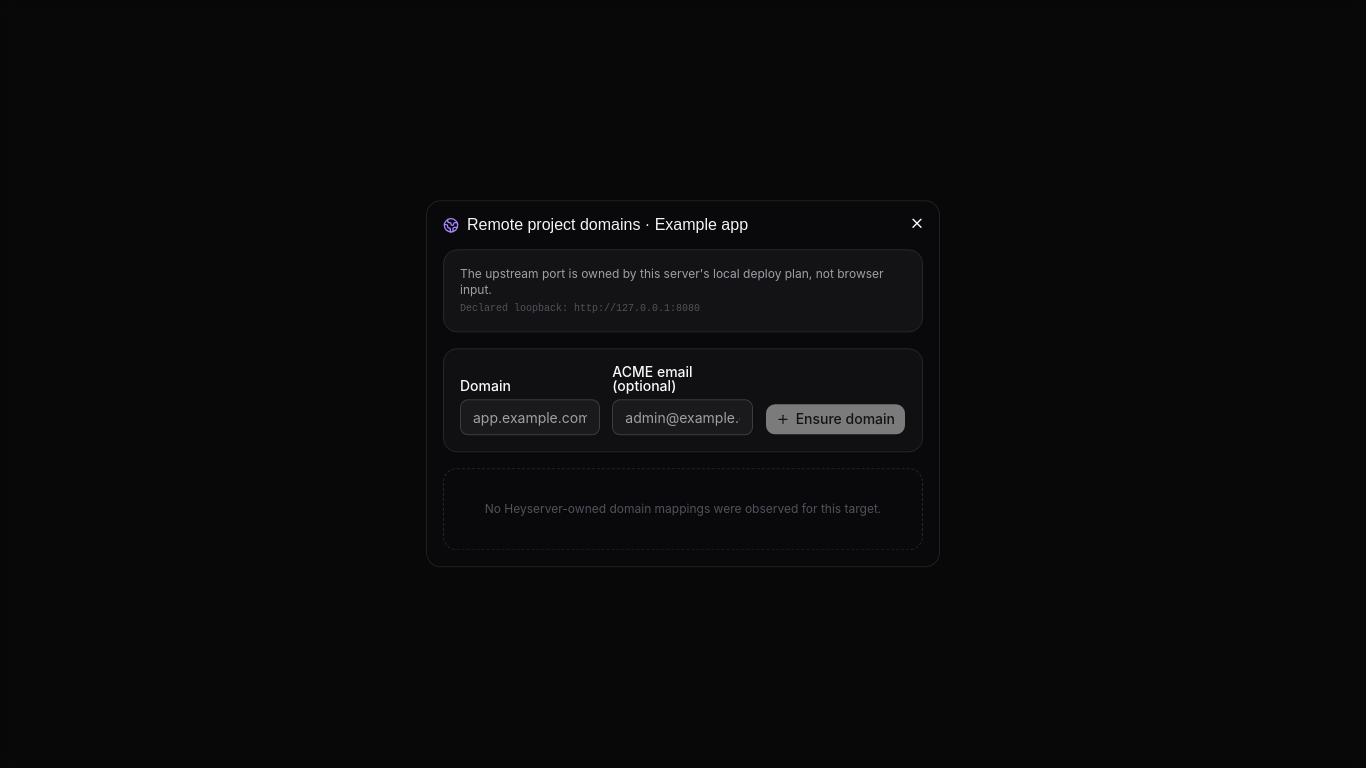
Scenario: RemoteProjectDomainsDialog › does not render raw backend error bodies for an ensure failure
Expected: the text "No Heyserver-owned domain mappings were observed for this target." is shown, left=443, top=469, right=923, bottom=551
Type "error.example.com" into the field labelled "Domain". click: (530, 418)
box: left=460, top=400, right=600, bottom=436
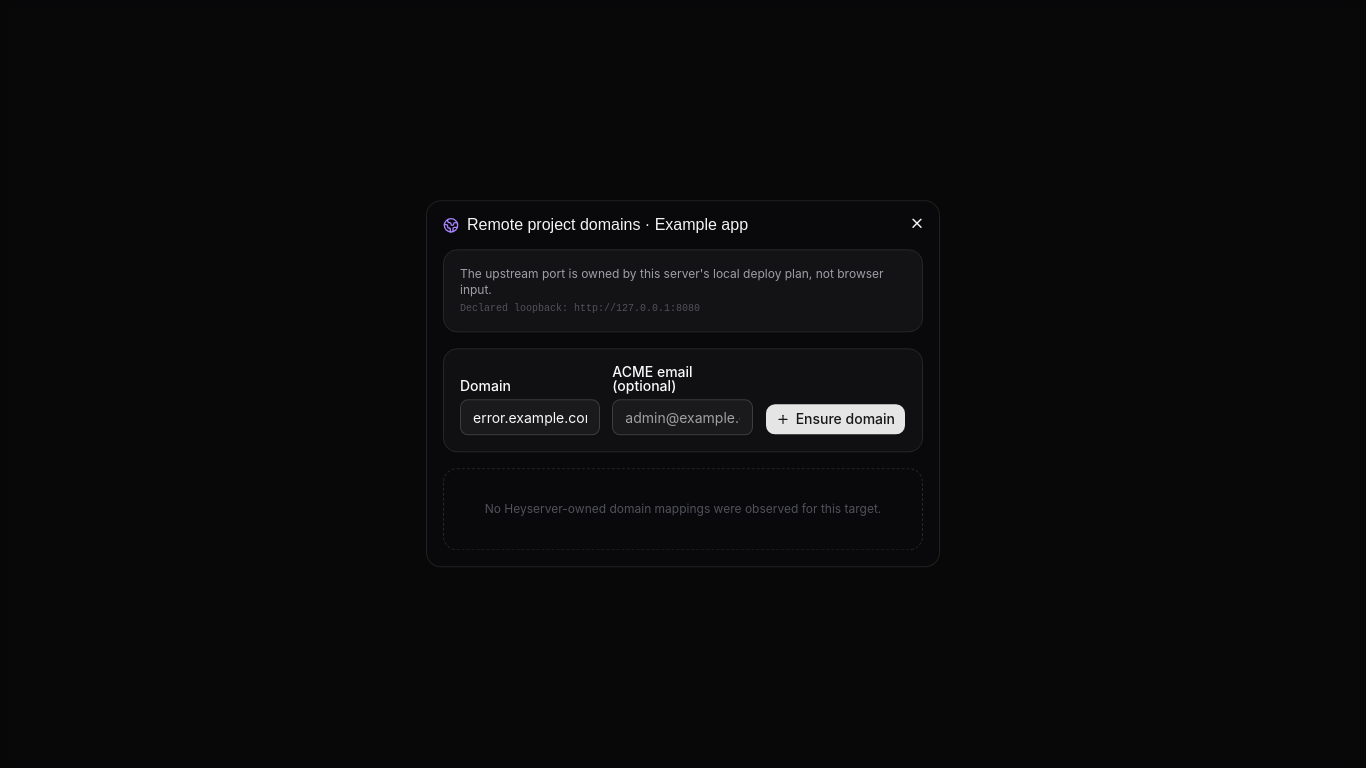
Click the button "Ensure domain". click: (835, 420)
box: left=765, top=404, right=906, bottom=436
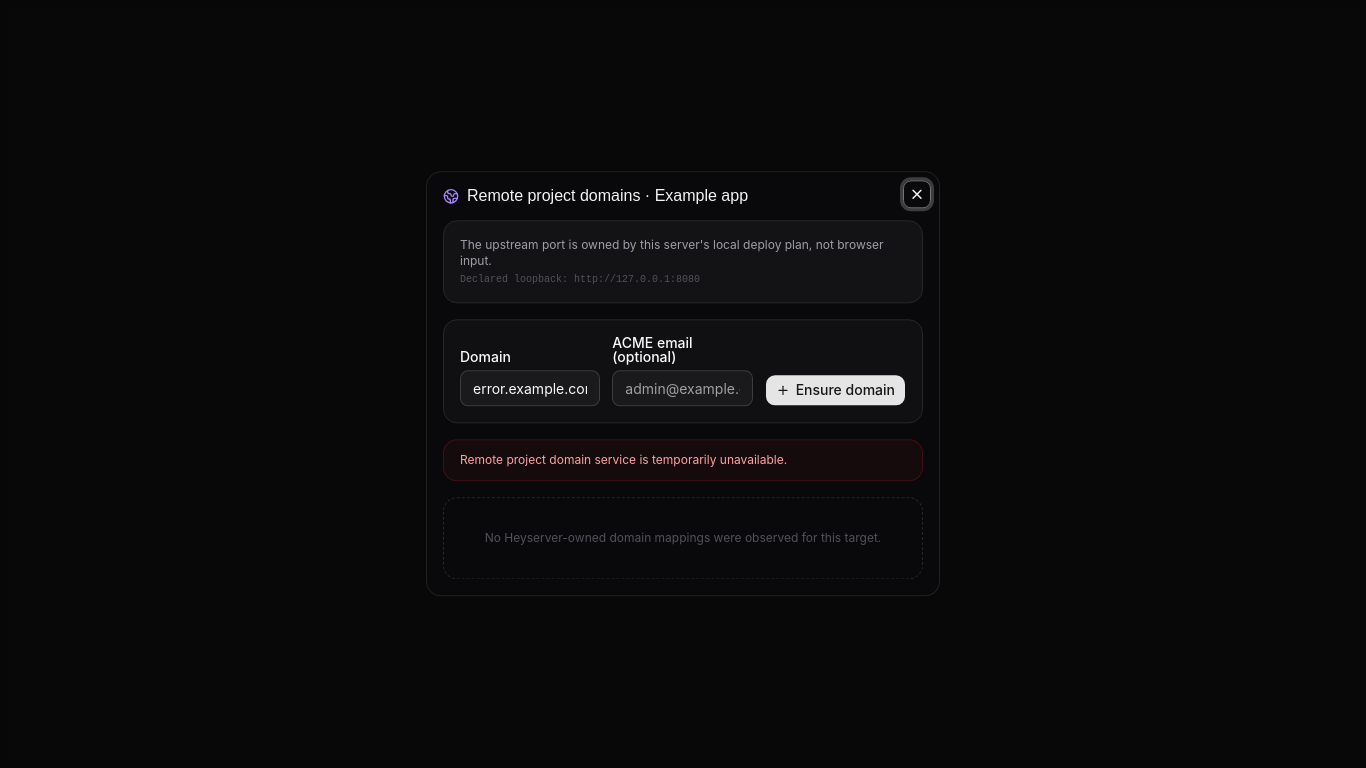
Result: the message reads "Remote project domain service is temporarily unavailable." at left=460, top=453, right=787, bottom=468
